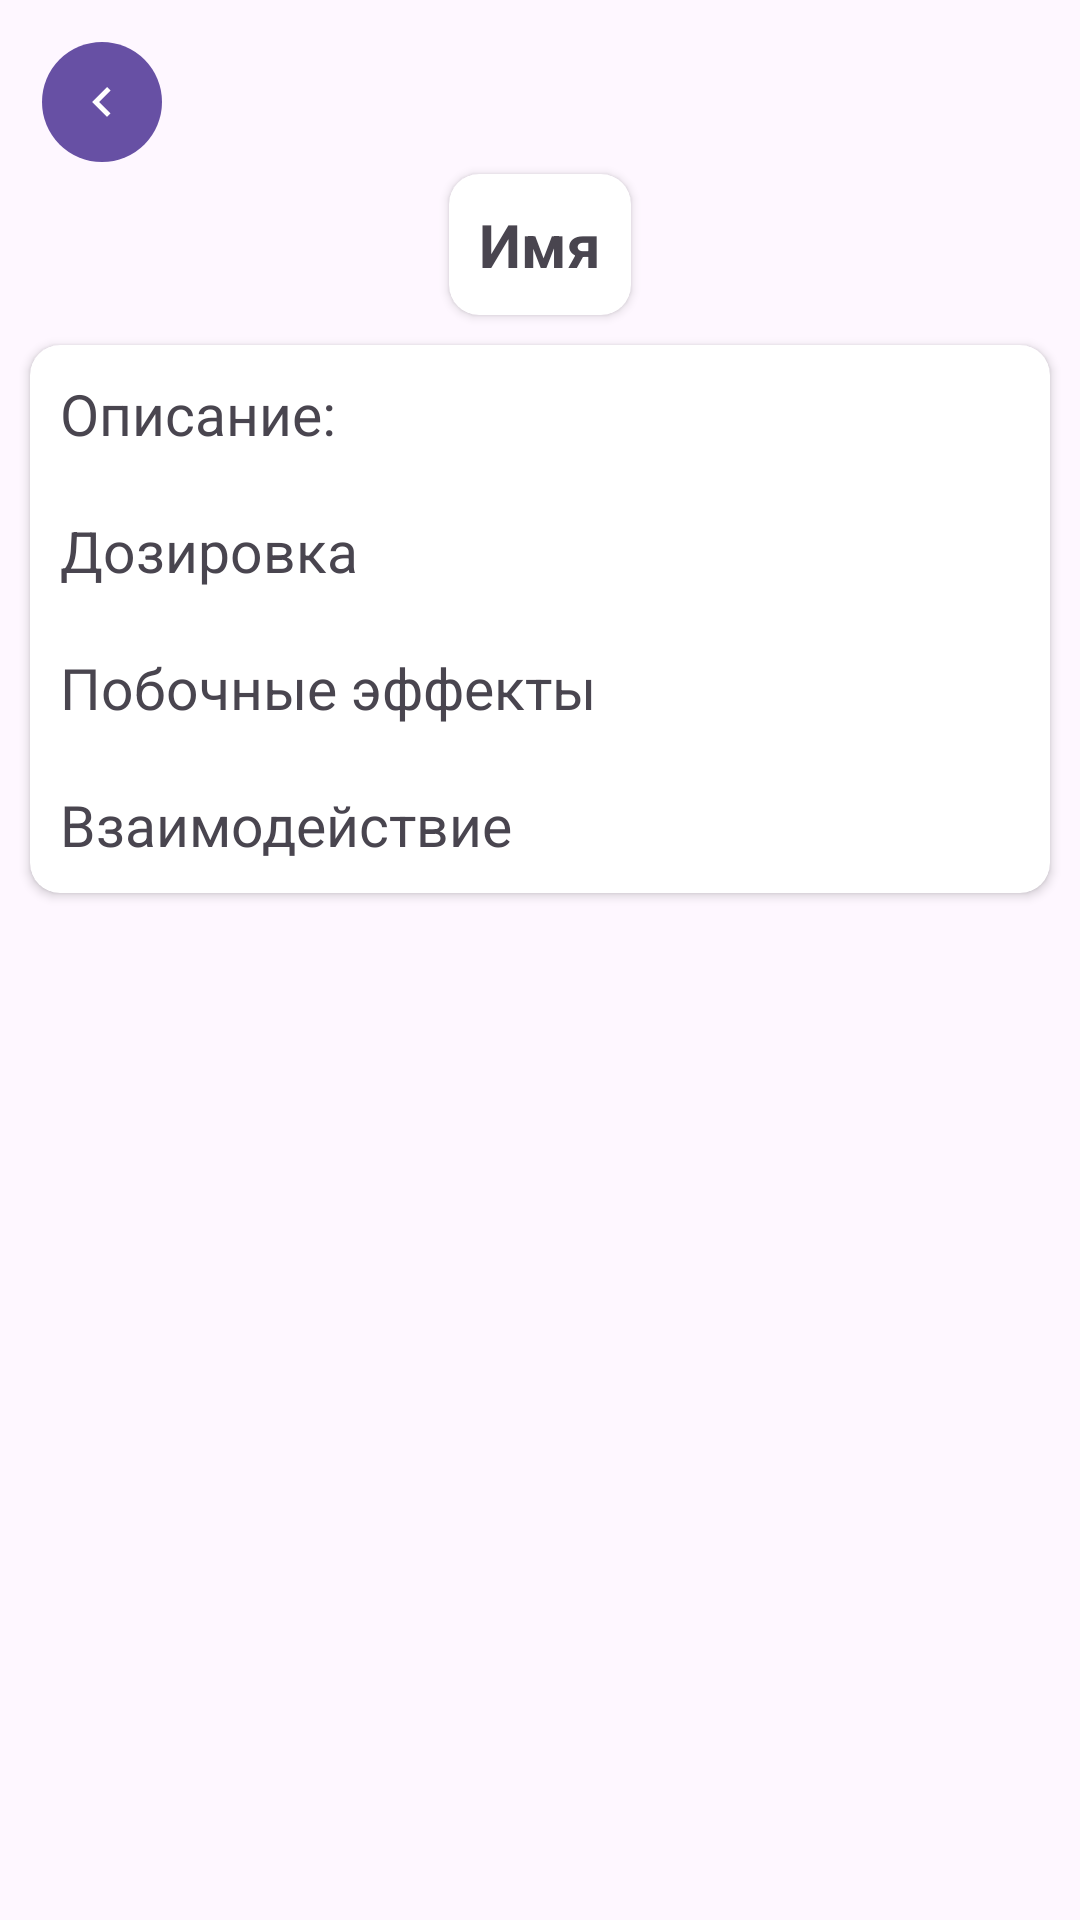

Point at icon controls on the screen. Image size 1080 x 1920, points as (x,y).
back: (102,102)
